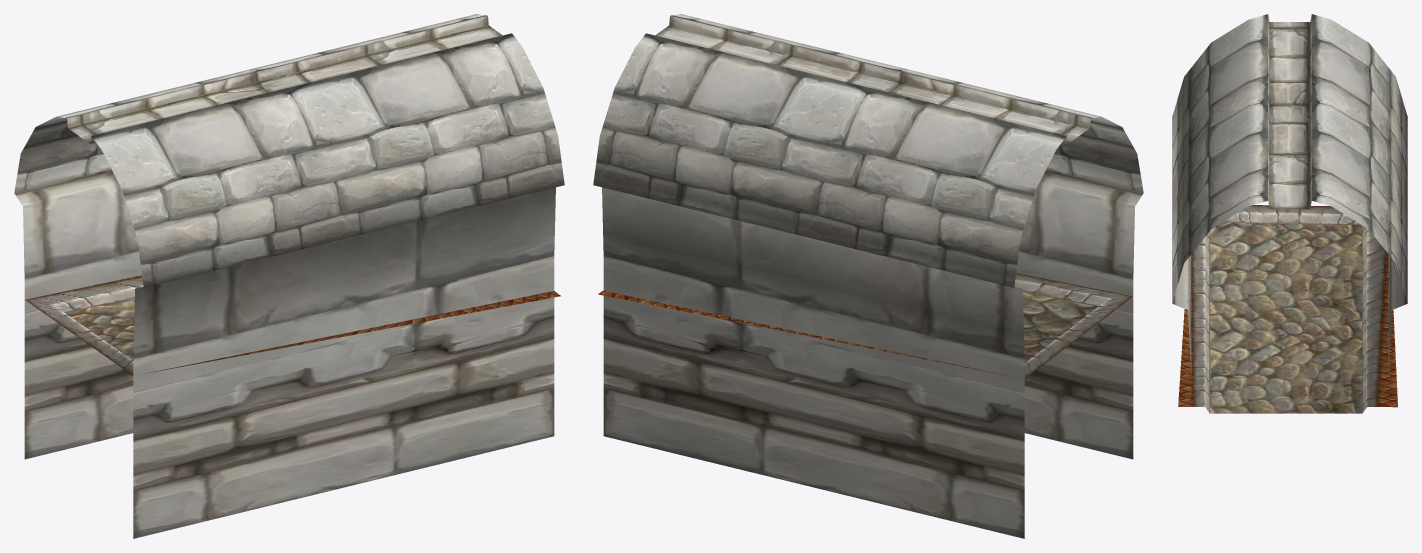
File: stormwind_014.fbx
The picture shows the model from 3 angles, left to right: view 1: azimuth 30°, elevation 25°; view 2: azimuth 150°, elevation 25°; view 3: azimuth 270°, elevation 25°; orthographic projection. The views are drawn at different scales.
Visible parts, largest first — view 1: stormwind_014_11, stormwind_014_4, stormwind_014_5, stormwind_014_12, stormwind_014_46; view 2: stormwind_014_11, stormwind_014_4, stormwind_014_5, stormwind_014_12, stormwind_014_46; view 3: stormwind_014_4, stormwind_014_46, stormwind_014_12, stormwind_014_5, stormwind_014_11.
Part boxes in pixels (box(x1,y1,x2,y2)): stormwind_014_11: box(14, 169, 555, 538); stormwind_014_4: box(14, 14, 564, 287); stormwind_014_5: box(67, 15, 502, 144); stormwind_014_12: box(25, 275, 560, 375); stormwind_014_46: box(65, 298, 134, 359); stormwind_014_11: box(602, 169, 1143, 538); stormwind_014_4: box(593, 14, 1143, 287); stormwind_014_5: box(655, 15, 1090, 144); stormwind_014_12: box(598, 273, 1132, 378); stormwind_014_46: box(1023, 291, 1097, 362); stormwind_014_4: box(1172, 14, 1407, 302); stormwind_014_46: box(1210, 222, 1362, 413); stormwind_014_12: box(1178, 205, 1397, 413); stormwind_014_5: box(1268, 16, 1311, 208); stormwind_014_11: box(1172, 255, 1407, 375).
Size of the model in its own units: 18.93 by 15.95 by 10.07.
